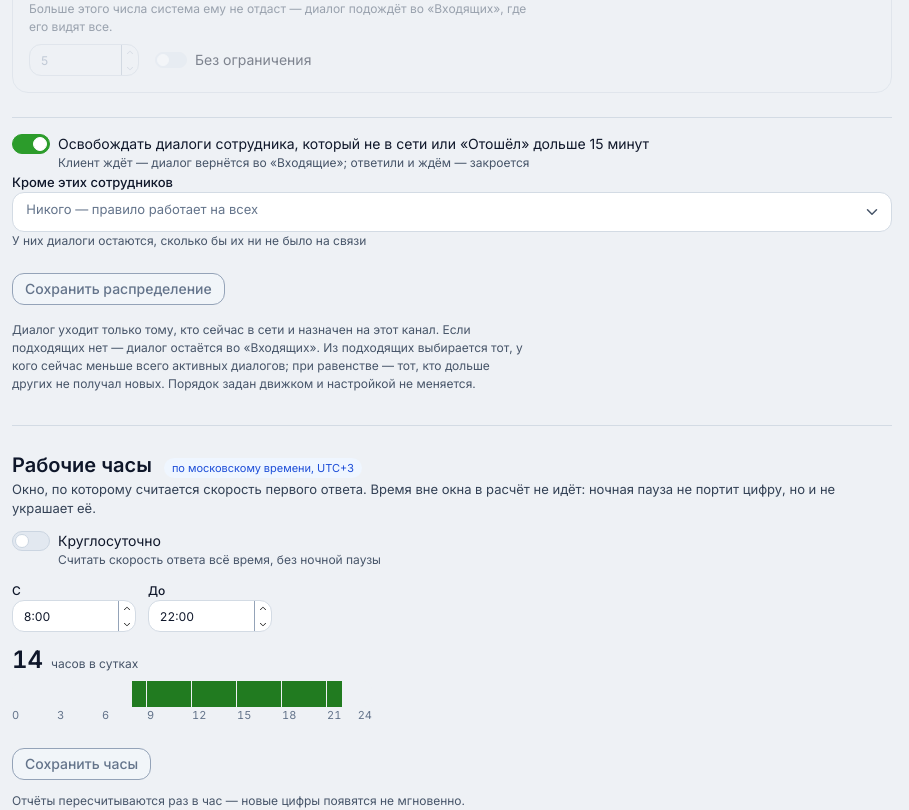
Распределение: адаптивность и иерархия › длина окна названа числом и идёт за полями
(page scrolled)
Check: the field named "Начало рабочего дня, час по Москве" is shown, box [12,600,136,632]
Replace the text in the field named "Конец рабочего дня, час по Москве" with "12" at (210, 616), box [148,600,272,632]
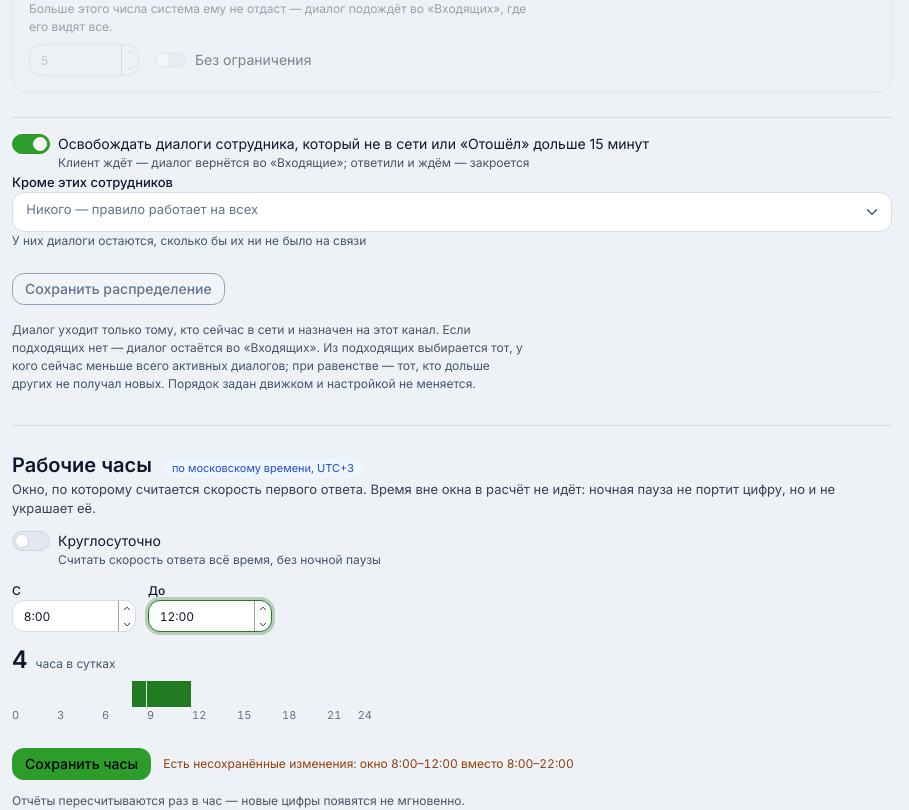
Check: the text with class "dist__len-cap" reads "часа в сутках", box [36,656,116,671]
